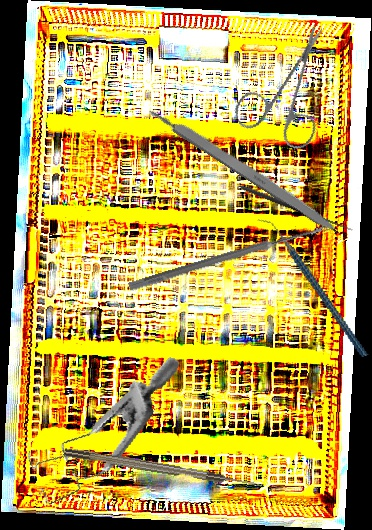Chopper: (256, 200, 369, 375)
Hook Surgical: (63, 446, 257, 490), (239, 178, 357, 234)
Iris Scissors: (216, 22, 358, 166)
Scalpel Handle: (145, 101, 345, 238)
Speculum: (16, 326, 180, 530)
Surgical Spoon: (128, 221, 331, 293)
